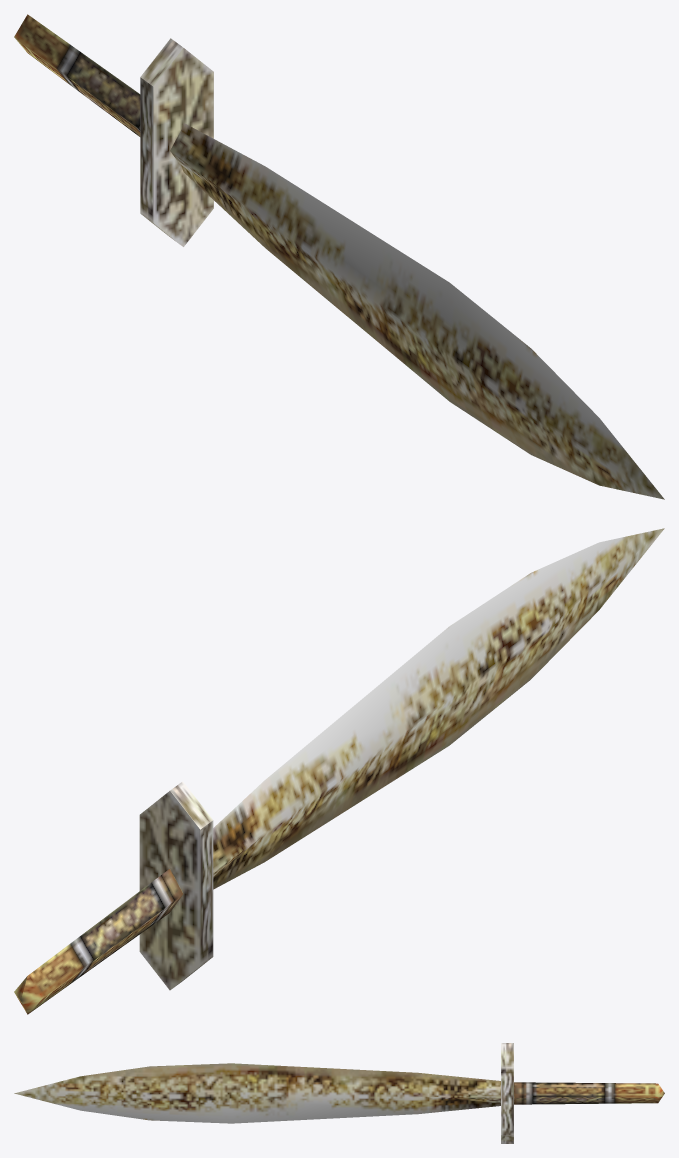
The picture shows the model from 3 angles, top to bottom: view 1: azimuth 30°, elevation 25°; view 2: azimuth 150°, elevation 25°; view 3: azimuth 270°, elevation 25°; orthographic projection. The views are drawn at different scales.
Parts seen in each view (by area): view 1: ws4-col; view 2: ws4-col; view 3: ws4-col.
Boxes of the visible parts, x1,y1,x2,y2 form: ws4-col: (14, 14, 664, 499); ws4-col: (14, 528, 664, 1014); ws4-col: (14, 1043, 664, 1143).
Bounding box in the file's own units: 0.056 × 0.1759 × 1.03.
1 material, 1 textured.
